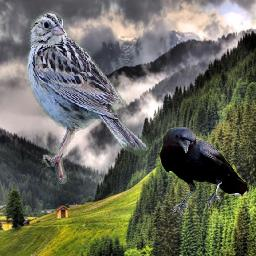Crow: (159, 127, 247, 215)
Sparrow: (27, 12, 149, 184)
